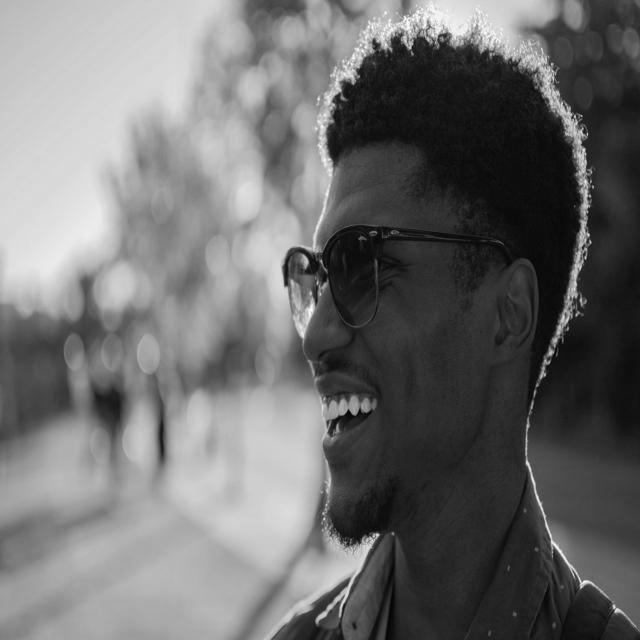Happiness: (296, 140, 498, 538)
